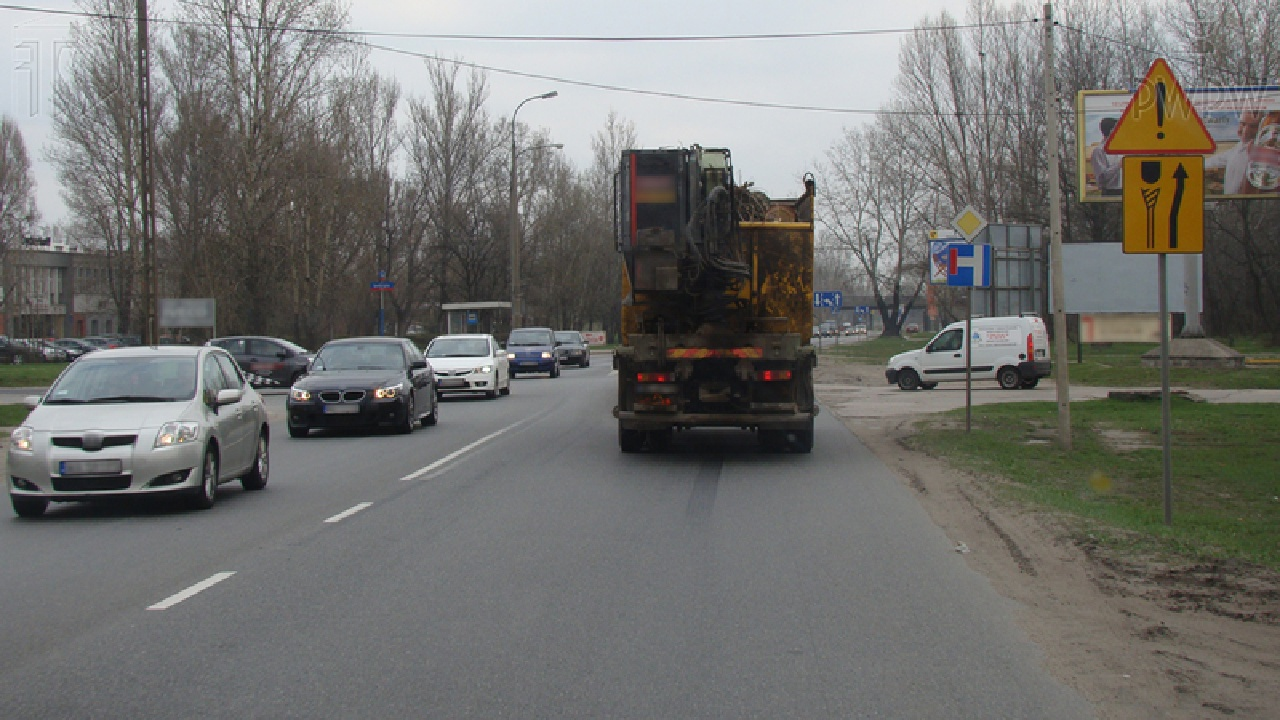A30: (1096, 57, 1226, 159)
D1: (948, 205, 989, 242)
